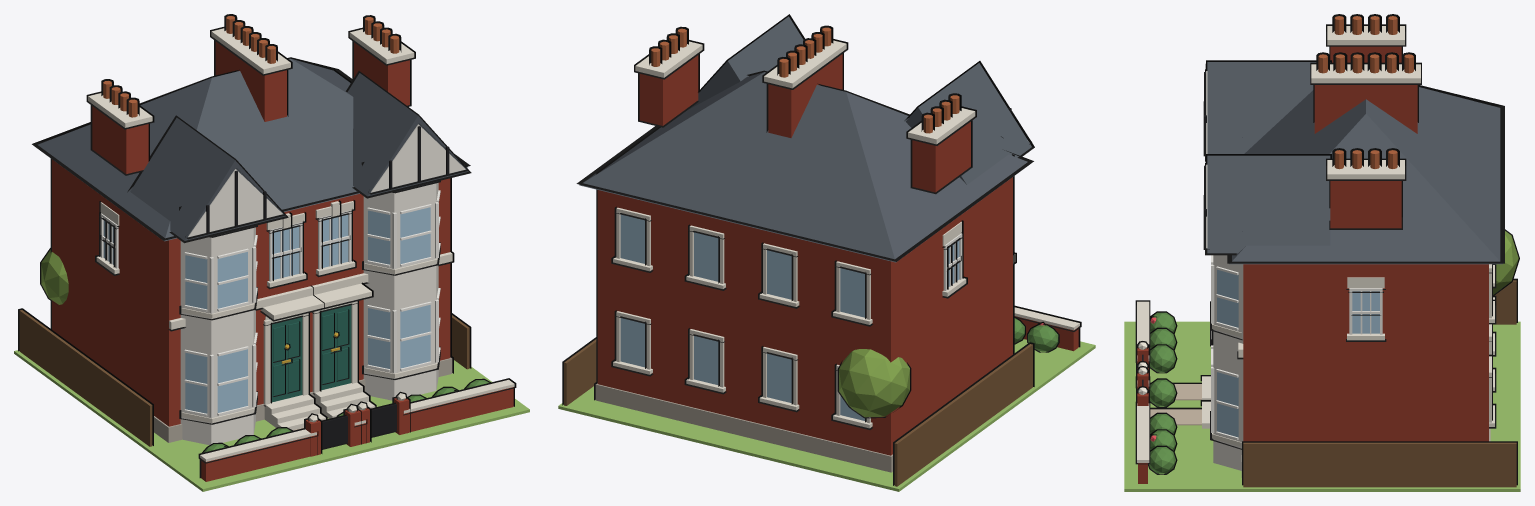
Rendered from MustakilEv_londra_ikiz_6.fbx.
The picture shows the model from 3 angles, left to right: view 1: azimuth 30°, elevation 25°; view 2: azimuth 150°, elevation 25°; view 3: azimuth 270°, elevation 25°; orthographic projection. The views are drawn at different scales.
Parts seen in each view (by area): view 1: MustakilEv_londra_ikiz_6; view 2: MustakilEv_londra_ikiz_6; view 3: MustakilEv_londra_ikiz_6.
Part boxes in pixels (<box>): MustakilEv_londra_ikiz_6: <box>14,14,529,491</box>; MustakilEv_londra_ikiz_6: <box>558,14,1095,491</box>; MustakilEv_londra_ikiz_6: <box>1124,14,1520,491</box>.
Bounding box in the file's own units: 10 × 9.82 × 10.
